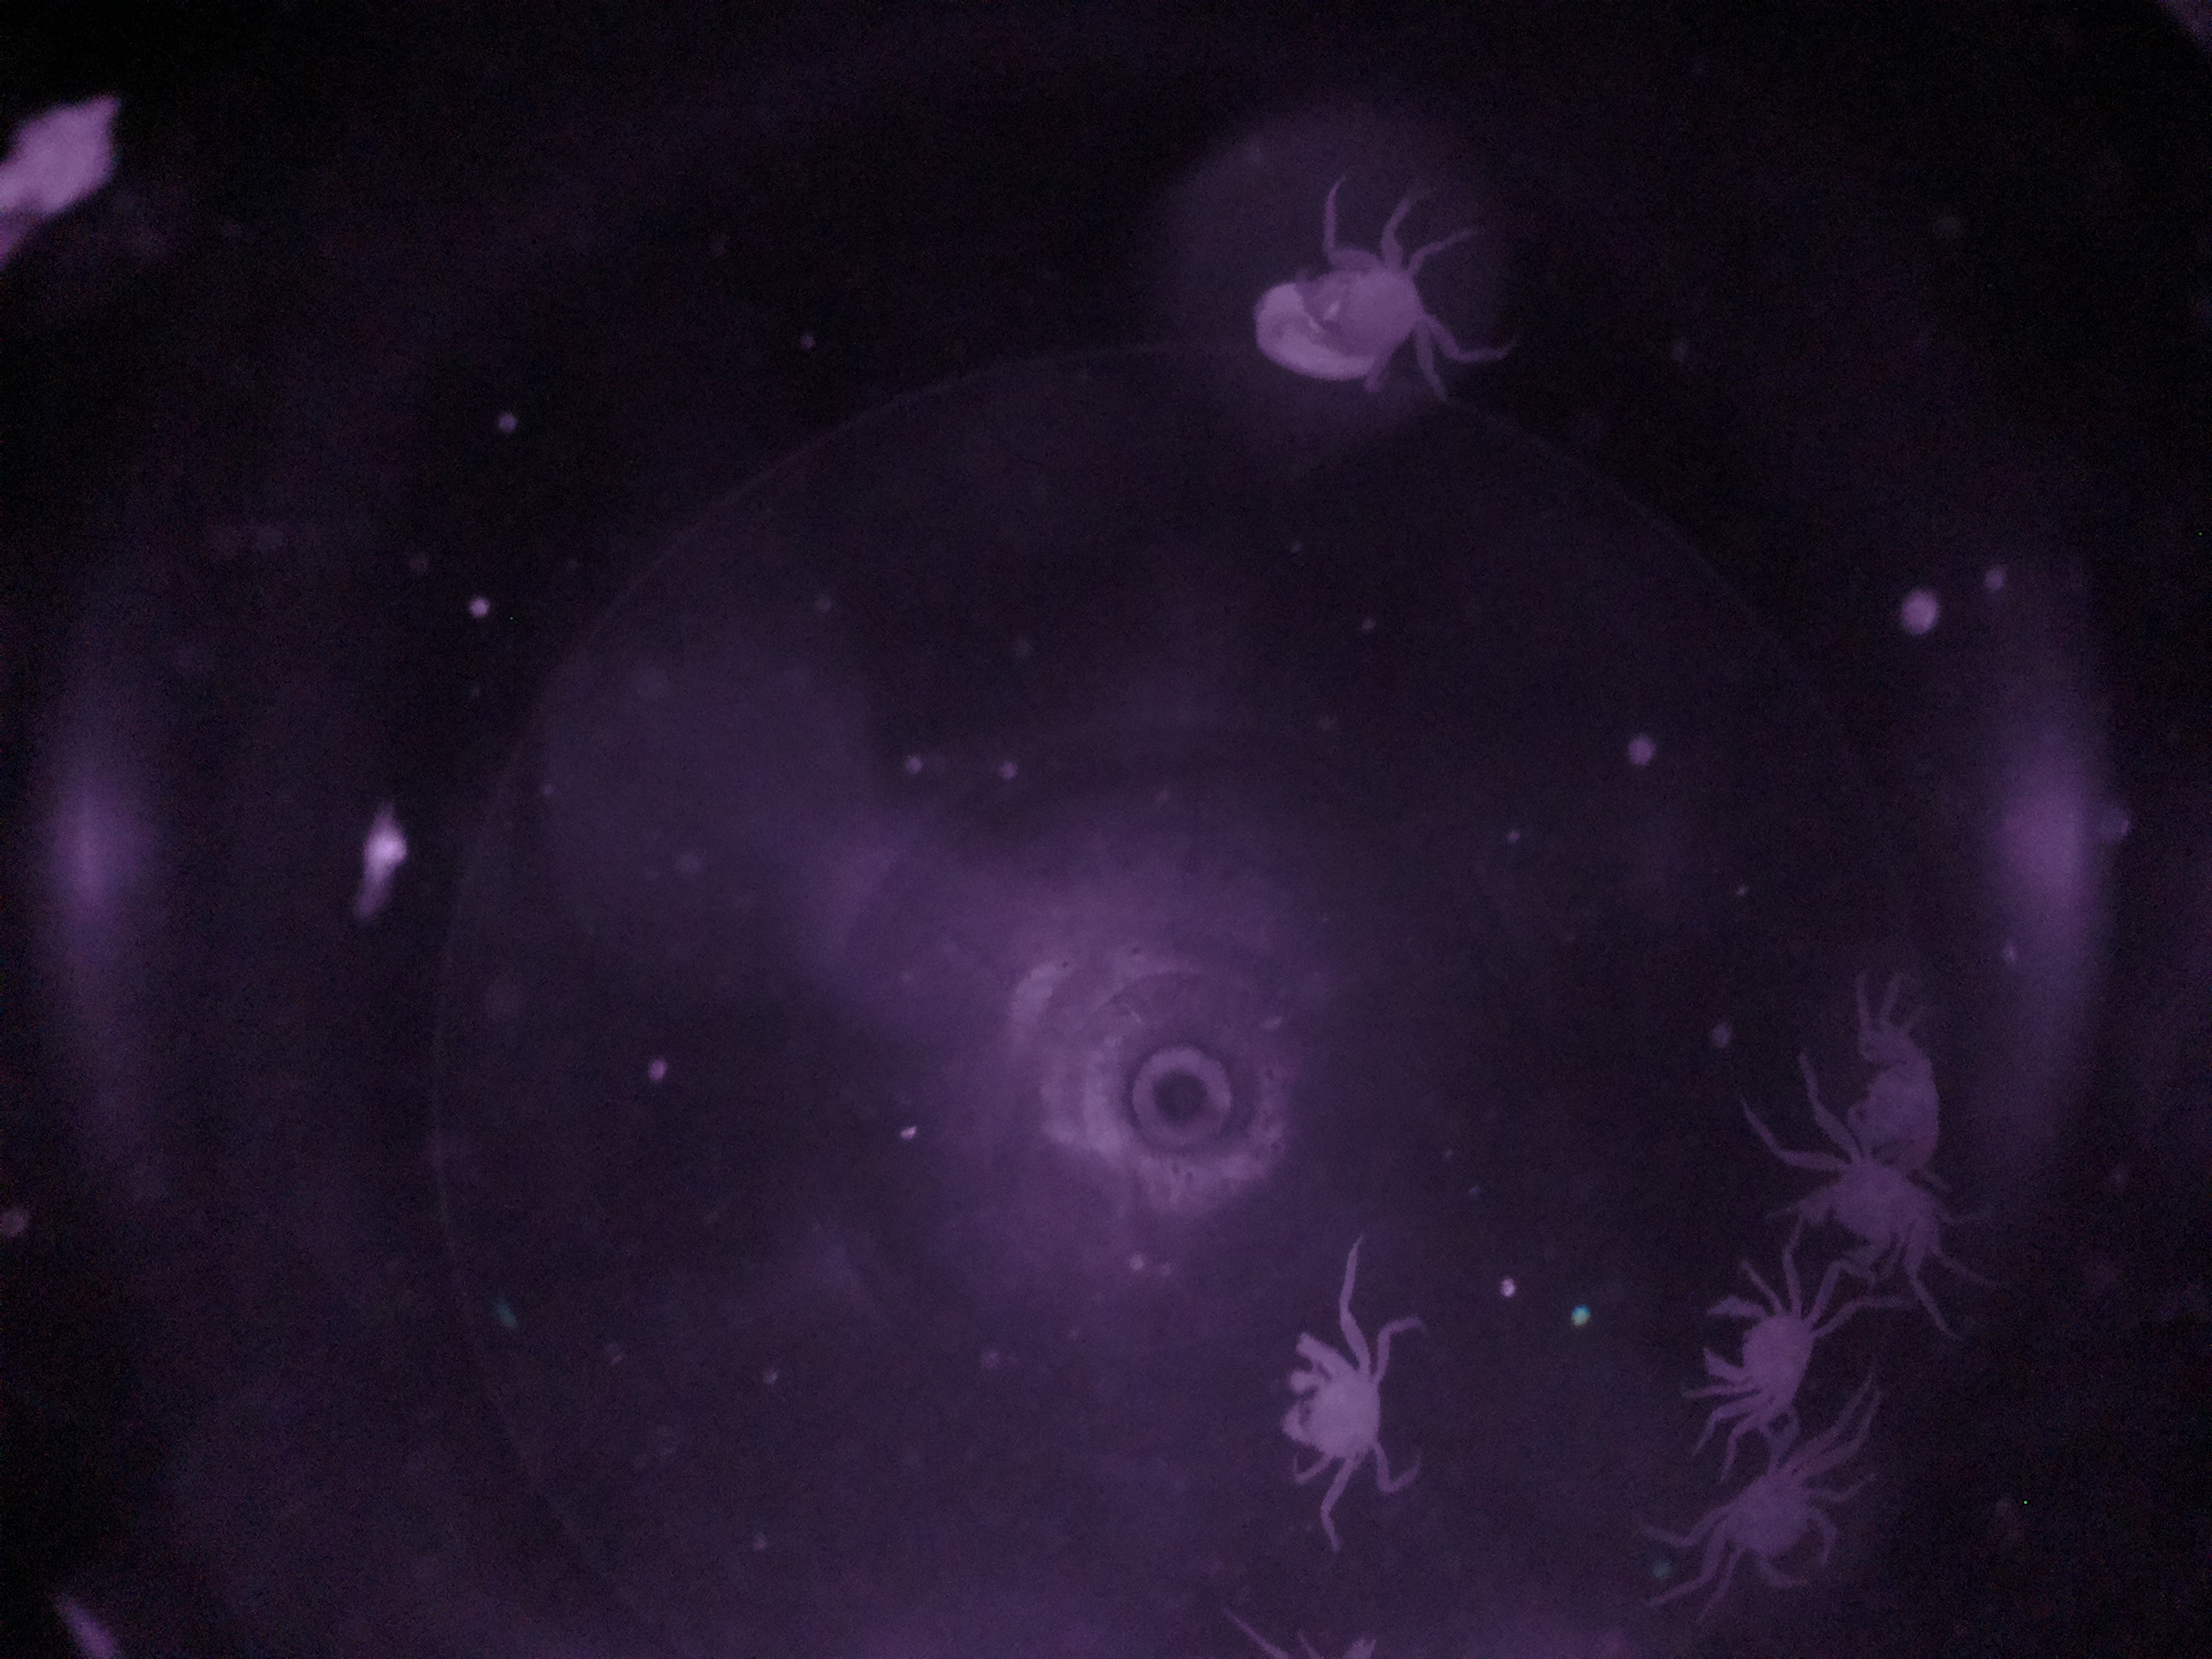Crab: (1658, 1446, 1860, 1617), (1266, 1310, 1420, 1518), (1677, 1255, 1843, 1443)
